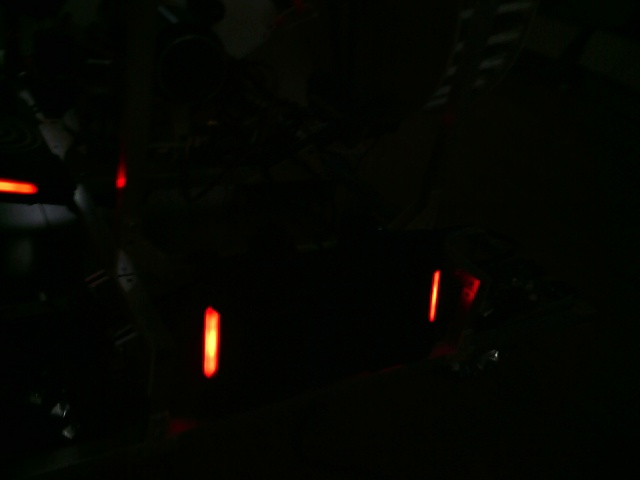lamp: (200, 302, 221, 378), (424, 269, 443, 325)
